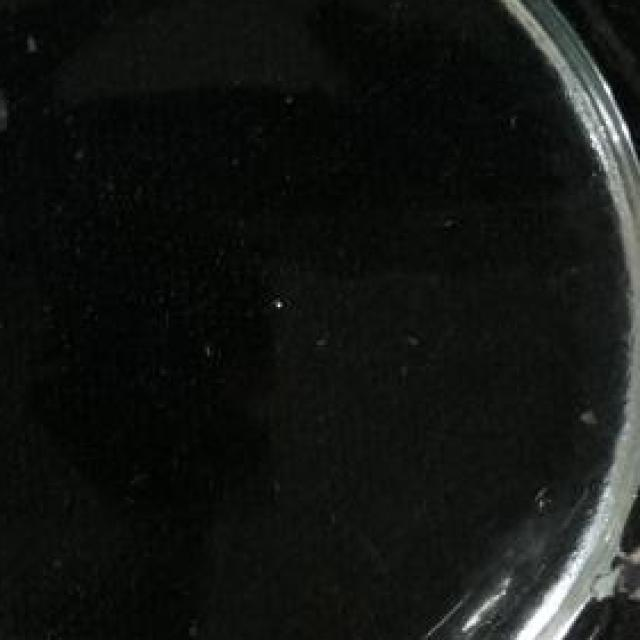Microplastic: (0, 38, 25, 159)
